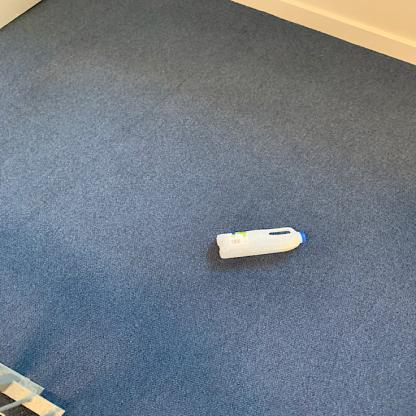trash: (217, 228, 311, 264)
